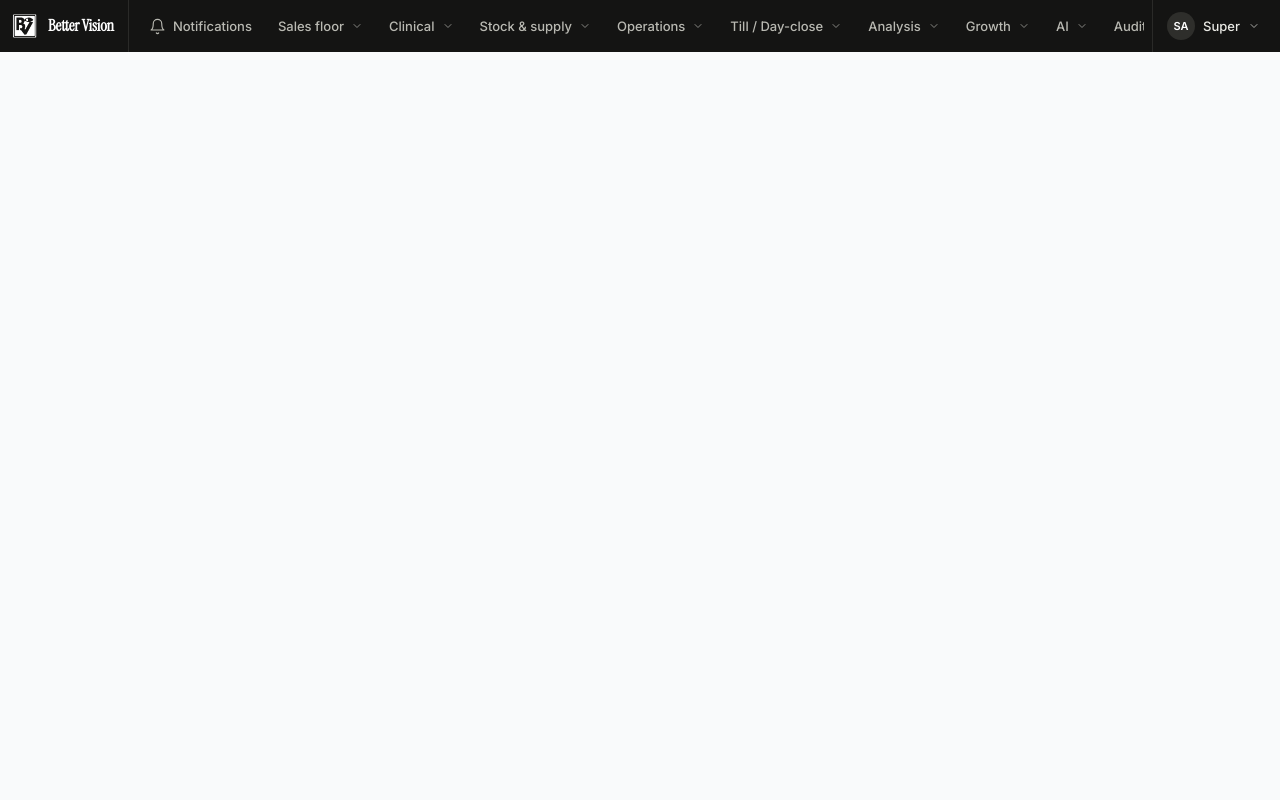
Test: TopNav group dropdowns (tap/click) › (e) clicking a menu item closes the menu
This screenshot has width=1280, height=800.
What coordinates should you click on to do the following:
click the button "Sales floor"
I would click on:
 (320, 26)
Its box is [266, 8, 375, 44].
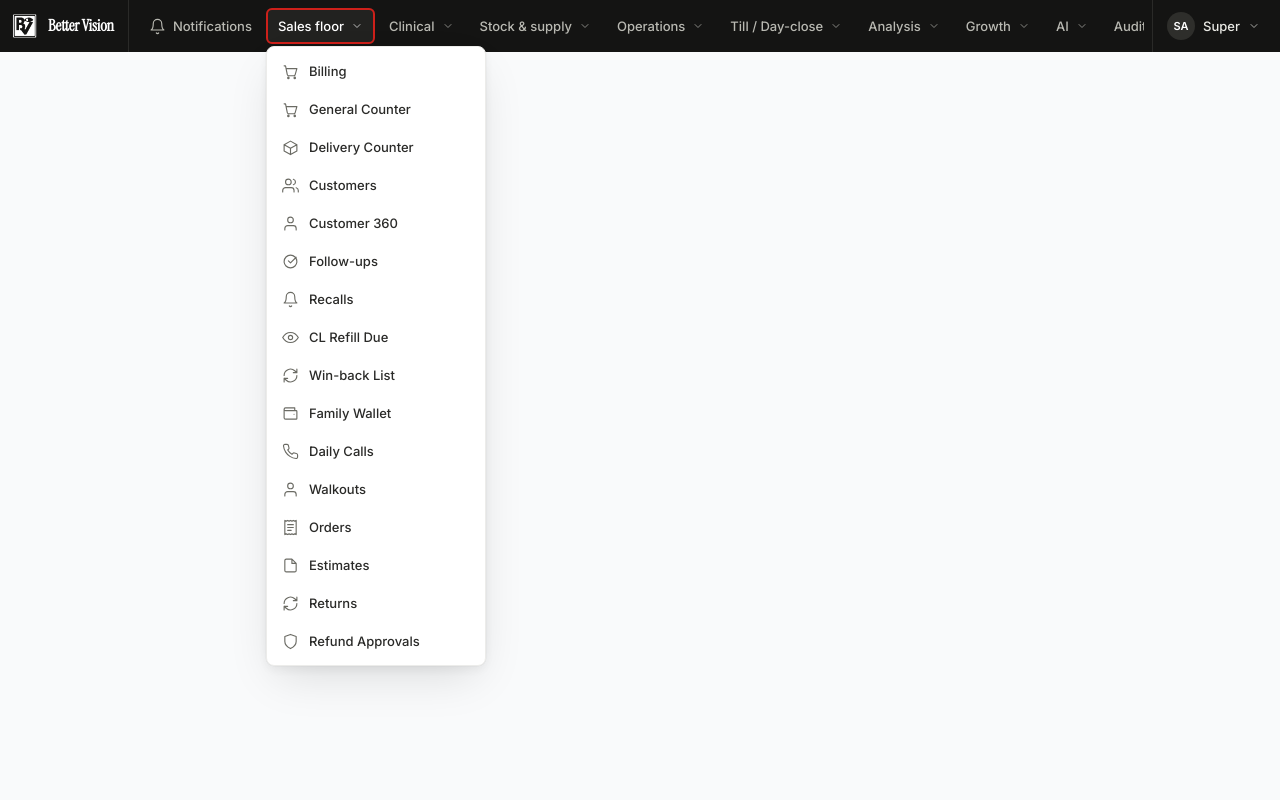
Result: the menu item "Orders" is shown
What coordinates should you click on to do the following:
click the menu item "Orders"
I would click on:
 (317, 527)
Its box is [282, 518, 352, 536].
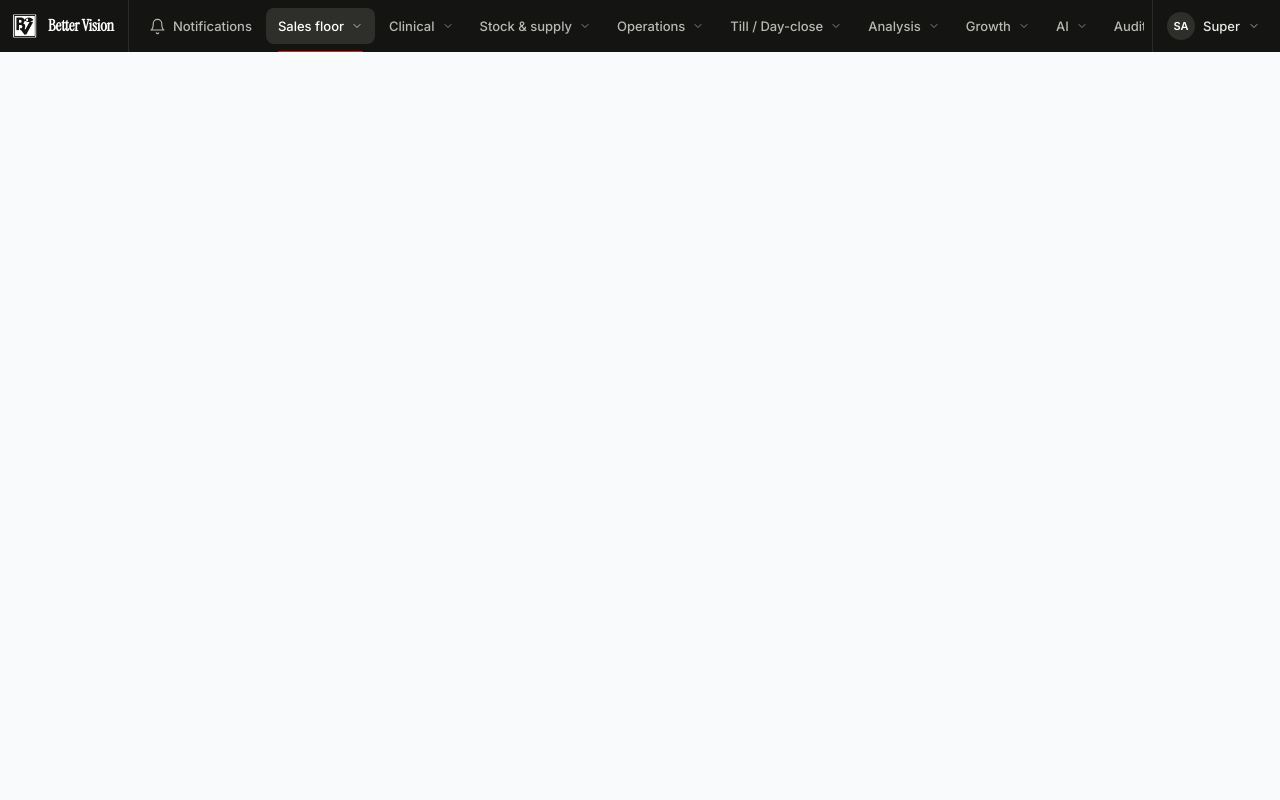
Result: the menu item "Orders" is gone
Result: the menu is gone
